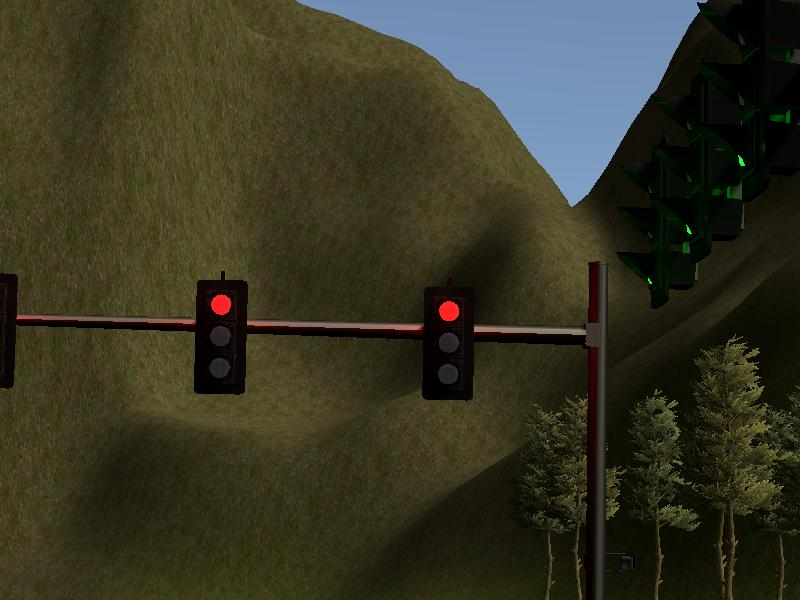Red: (426, 285, 473, 400), (199, 280, 243, 392)
